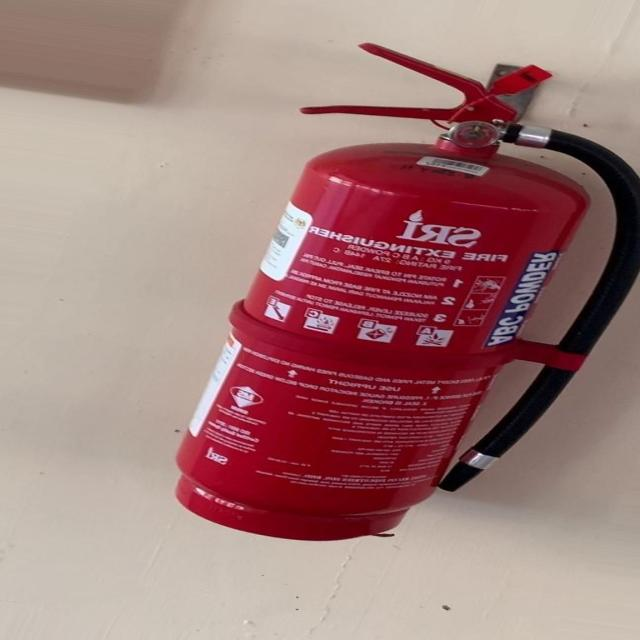fire_extinguisher: (161, 36, 639, 546)
